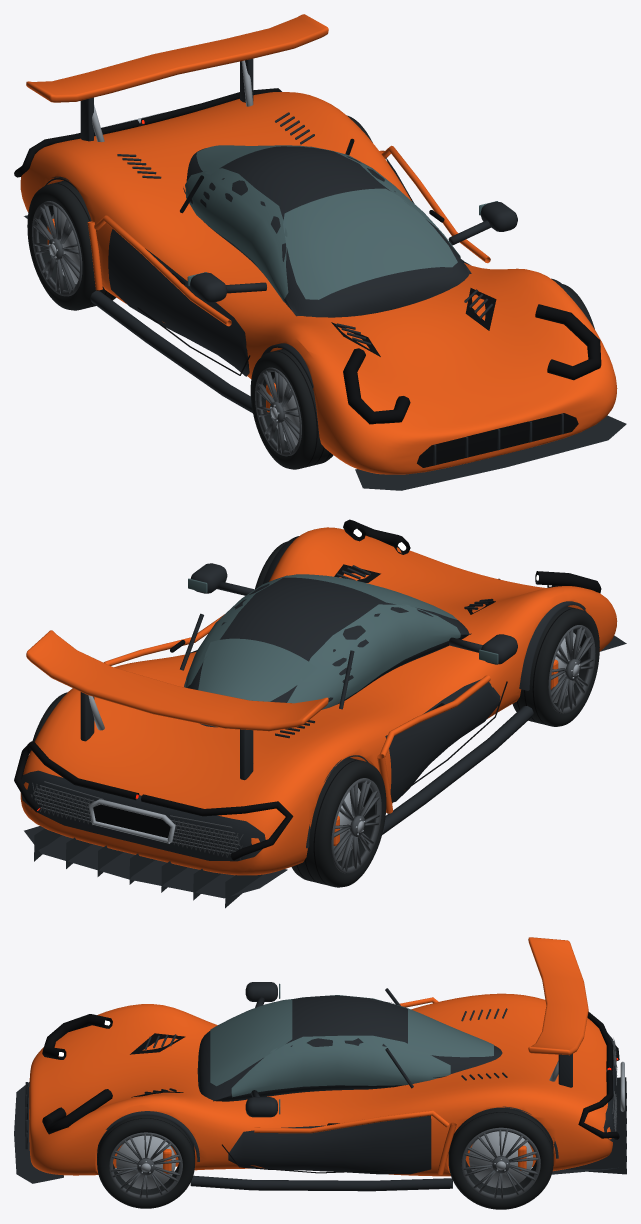
Rendered from p1-supercar.glb.
The picture shows the model from 3 angles, top to bottom: view 1: azimuth 30°, elevation 25°; view 2: azimuth 150°, elevation 25°; view 3: azimuth 270°, elevation 25°; orthographic projection. The views are drawn at different scales.
Parts seen in each view (by area): view 1: P1 export P1_Orange P1 metallic copper orange, P1 export P1_Orange P1 satin carbon, P1 export P1_Orange P1 smoked glazing, P1 export P1_Orange P1 deep intake, P1 export WheelSpin_RL_P1 P1 tire rubber, P1 export WheelSpin_FL_P1 P1 tire rubber, P1 export WheelSpin_RL_P1 P1 graphite forged alloy, P1 export WheelSpin_FL_P1 P1 graphite forged alloy; view 2: P1 export P1_Orange P1 metallic copper orange, P1 export P1_Orange P1 satin carbon, P1 export P1_Orange P1 smoked glazing, P1 export P1_Orange P1 deep intake, P1 export WheelSpin_RL_P1 P1 tire rubber, P1 export WheelSpin_FL_P1 P1 tire rubber, P1 export WheelSpin_RL_P1 P1 graphite forged alloy, P1 export P1_Orange P1 graphite forged alloy, P1 export WheelSpin_FL_P1 P1 graphite forged alloy, P1 export P1_Orange P1 machined metal; view 3: P1 export P1_Orange P1 metallic copper orange, P1 export P1_Orange P1 satin carbon, P1 export P1_Orange P1 smoked glazing, P1 export WheelSpin_RR_P1 P1 tire rubber, P1 export P1_Orange P1 deep intake, P1 export WheelSpin_FR_P1 P1 tire rubber, P1 export WheelSpin_RR_P1 P1 graphite forged alloy, P1 export WheelSpin_FR_P1 P1 graphite forged alloy, P1 export WheelSteer_RR_P1 P1 machined metal, P1 export WheelSteer_FR_P1 P1 machined metal.
Boxes of the visible parts, x1,y1,x2,y2 form: P1 export P1_Orange P1 metallic copper orange: (20, 14, 617, 474); P1 export P1_Orange P1 satin carbon: (24, 58, 626, 490); P1 export P1_Orange P1 smoked glazing: (185, 145, 498, 302); P1 export P1_Orange P1 deep intake: (14, 88, 601, 467); P1 export WheelSpin_RL_P1 P1 tire rubber: (27, 181, 116, 310); P1 export WheelSpin_FL_P1 P1 tire rubber: (250, 349, 333, 469); P1 export WheelSpin_RL_P1 P1 graphite forged alloy: (32, 201, 82, 296); P1 export WheelSpin_FL_P1 P1 graphite forged alloy: (255, 367, 301, 456); P1 export P1_Orange P1 metallic copper orange: (20, 527, 617, 875); P1 export P1_Orange P1 satin carbon: (21, 536, 626, 908); P1 export P1_Orange P1 smoked glazing: (185, 574, 498, 709); P1 export P1_Orange P1 deep intake: (14, 519, 601, 860); P1 export WheelSpin_RL_P1 P1 tire rubber: (291, 758, 386, 887); P1 export WheelSpin_FL_P1 P1 tire rubber: (512, 606, 599, 726); P1 export WheelSpin_RL_P1 P1 graphite forged alloy: (331, 778, 381, 873); P1 export P1_Orange P1 graphite forged alloy: (30, 781, 243, 860); P1 export WheelSpin_FL_P1 P1 graphite forged alloy: (548, 625, 595, 713); P1 export P1_Orange P1 machined metal: (88, 695, 175, 843); P1 export P1_Orange P1 metallic copper orange: (29, 937, 612, 1176); P1 export P1_Orange P1 satin carbon: (14, 982, 626, 1191); P1 export P1_Orange P1 smoked glazing: (210, 983, 493, 1114); P1 export WheelSpin_RR_P1 P1 tire rubber: (448, 1109, 553, 1209); P1 export P1_Orange P1 deep intake: (27, 1011, 619, 1173); P1 export WheelSpin_FR_P1 P1 tire rubber: (97, 1115, 194, 1208); P1 export WheelSpin_RR_P1 P1 graphite forged alloy: (461, 1127, 540, 1199); P1 export WheelSpin_FR_P1 P1 graphite forged alloy: (109, 1132, 182, 1199); P1 export WheelSteer_RR_P1 P1 machined metal: (469, 1131, 532, 1188); P1 export WheelSteer_FR_P1 P1 machined metal: (116, 1135, 175, 1189).
Size of the model in its own units: 2.37 by 1.42 by 4.92.
